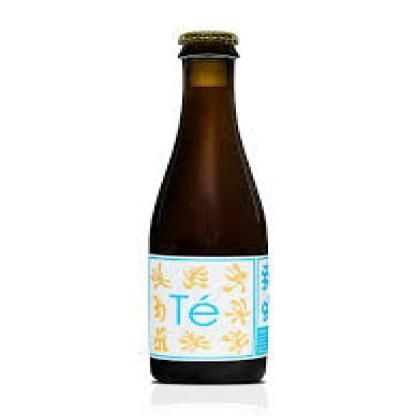trash: (149, 32, 268, 382)
